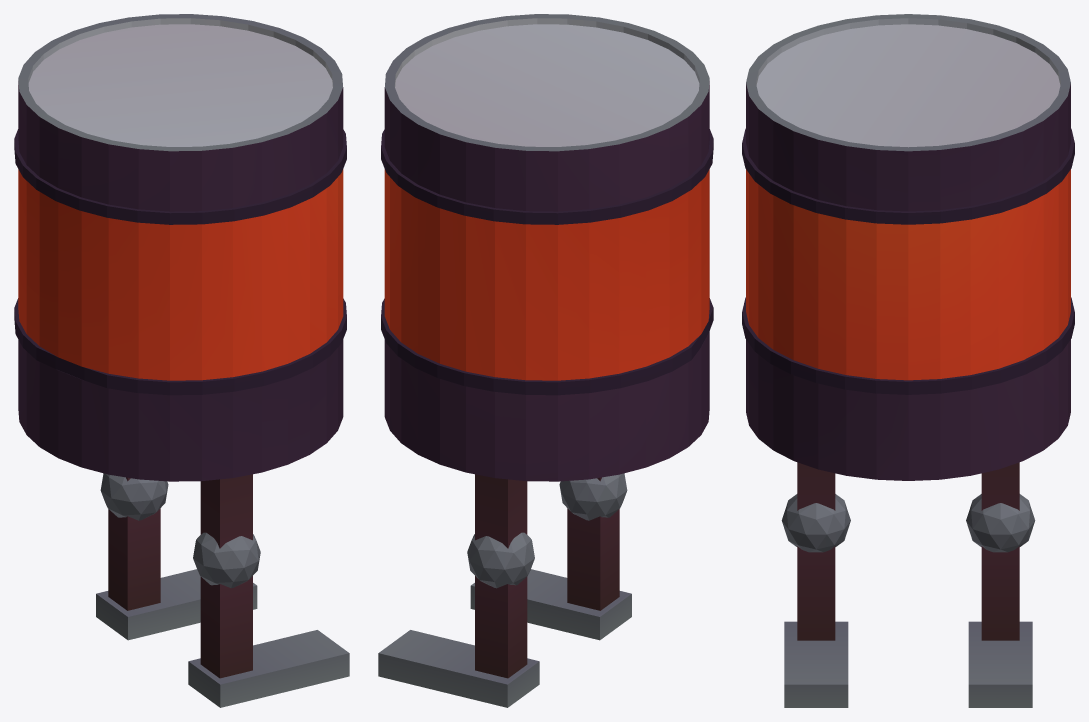
Rendered from dummy.glb.
3 renders of one model, left to right at view 1: azimuth 30°, elevation 25°; view 2: azimuth 150°, elevation 25°; view 3: azimuth 270°, elevation 25°, orthographic.
Visible parts, largest first — view 1: Main, Foot, Lower Leg, Knee, Upper Leg; view 2: Main, Foot, Lower Leg, Knee, Upper Leg; view 3: Main, Foot, Lower Leg, Knee, Upper Leg.
Part boxes in pixels (bbox=[...]): Main: bbox=[14, 14, 346, 481]; Foot: bbox=[96, 569, 349, 707]; Lower Leg: bbox=[108, 508, 252, 678]; Knee: bbox=[100, 473, 260, 588]; Upper Leg: bbox=[126, 474, 252, 548]; Main: bbox=[381, 14, 713, 481]; Foot: bbox=[378, 569, 631, 707]; Lower Leg: bbox=[475, 508, 619, 678]; Knee: bbox=[467, 473, 627, 588]; Upper Leg: bbox=[475, 474, 601, 548]; Main: bbox=[742, 14, 1074, 480]; Foot: bbox=[784, 621, 1032, 707]; Lower Leg: bbox=[797, 546, 1019, 640]; Knee: bbox=[781, 494, 1035, 552]; Upper Leg: bbox=[797, 462, 1019, 510].
Size of the model in its own units: 0.9417 by 1.79 by 0.9417.
1 material, 1 textured.
